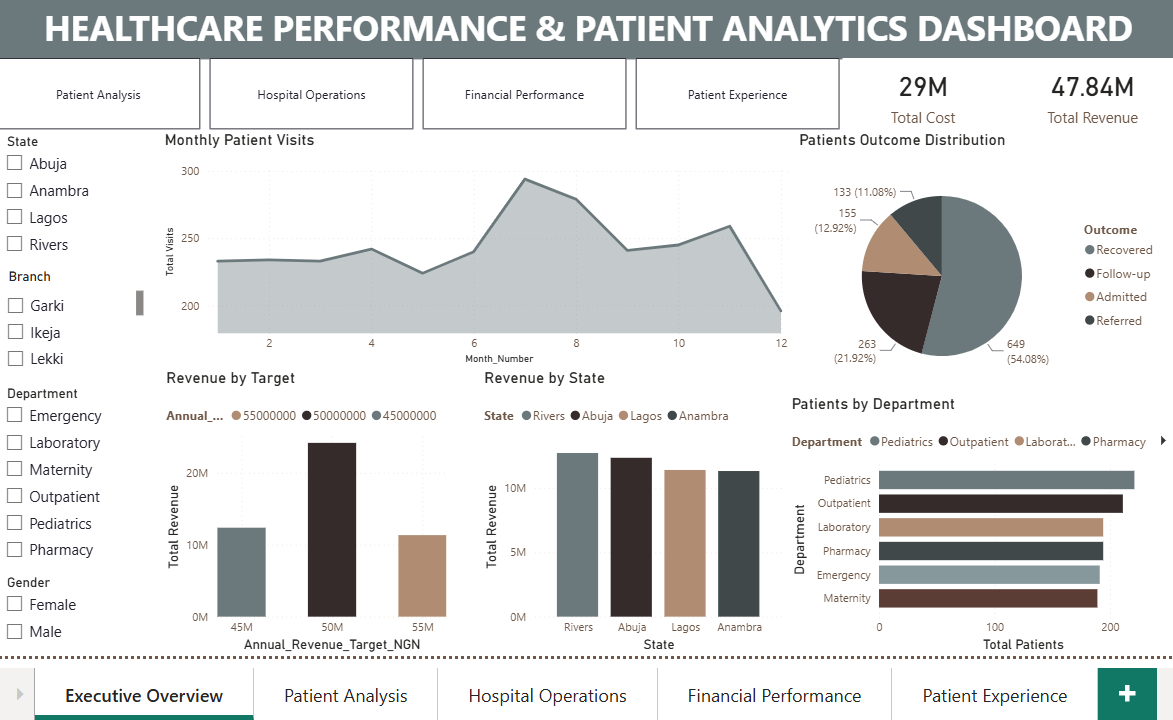

This screenshot's page, from the dashboard's own definition file:
{"tool":"powerbi","page":{"name":"Executive Overview","canvas":[1280,720],"ordinal":0},"visuals":[{"type":"textbox","box":[0,11.3,1280.8,64.8],"z":0},{"type":"columnChart","title":"Revenue by State","fields":{"Y":["Date_Table.Total Revenue"],"Category":["Patient_Visits.State"],"Series":["Patient_Visits.State"]},"box":[523,409.7,331.9,310.9],"z":6000},{"type":"barChart","title":"Patients by  Department","fields":{"Category":["Patient_Visits.Department"],"Y":["Date_Table.Total Patients"],"Series":["Patient_Visits.Department"]},"box":[855,437.2,425.9,283.4],"z":7000},{"type":"columnChart","title":"Revenue by Target","fields":{"Y":["Date_Table.Total Revenue"],"Category":["State_Targets.Annual_Revenue_Target_NGN"],"Series":["State_Targets.Annual_Revenue_Target_NGN"]},"box":[179.7,409.7,312.5,310.9],"z":8000},{"type":"pieChart","title":"Patients Outcome Distribution","fields":{"Category":["Patient_Visits.Outcome"],"Y":["Date_Table.Total Patients"]},"box":[863,152.2,401.6,285],"z":9000},{"type":"stackedAreaChart","title":"Monthly Patient Visits","fields":{"Y":["Date_Table.Total Visits"],"Category":["Date_Table.Month_Number"]},"box":[178.1,152.2,684.9,257.5],"z":10000},{"type":"slicer","fields":{"Values":["Patient_Visits.State"]},"box":[0,150.6,163.5,144.1],"z":11000},{"type":"slicer","fields":{"Values":["Patient_Visits.Branch"]},"box":[1.6,296.3,163.5,126.3],"z":12000},{"type":"slicer","fields":{"Values":["Patient_Visits.Department"]},"box":[0,422.6,163.5,204],"z":13000},{"type":"slicer","fields":{"Values":["Patient_Visits.Gender"]},"box":[0,626.6,163.5,93.9],"z":14000},{"type":"card","fields":{"Values":["Date_Table.Total Revenue"]},"box":[1088.1,74.5,192.7,77.7],"z":15001},{"type":"pageNavigator","box":[1.6,74.5,913.2,77.7],"z":15002},{"type":"card","fields":{"Values":["Date_Table.Total Cost"]},"box":[914.9,74.5,173.3,77.7],"z":15003}]}

Visuals, with their boxes on the page's 1280x720 design canvas (x1, y1, x2, y2). These are canvas units, not pixel positions in the 1173x720 screenshot, which may show the page scaled, cropped or inside an application window:
textbox: 0:11:1281:76
"Revenue by State" columnChart: 523:410:855:721
"Patients by  Department" barChart: 855:437:1281:721
"Revenue by Target" columnChart: 180:410:492:721
"Patients Outcome Distribution" pieChart: 863:152:1265:437
"Monthly Patient Visits" stackedAreaChart: 178:152:863:410
slicer - Patient_Visits.State: 0:151:164:295
slicer - Patient_Visits.Branch: 2:296:165:423
slicer - Patient_Visits.Department: 0:423:164:627
slicer - Patient_Visits.Gender: 0:627:164:720
card - Date_Table.Total Revenue: 1088:74:1281:152
pageNavigator: 2:74:915:152
card - Date_Table.Total Cost: 915:74:1088:152
